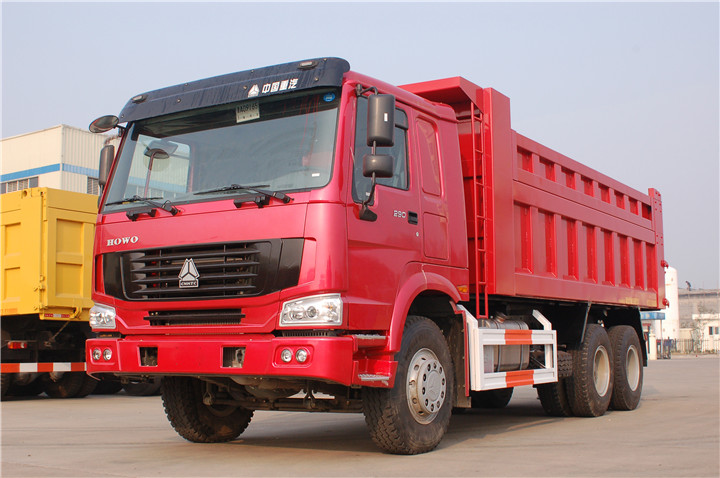truck: (87, 60, 671, 452)
